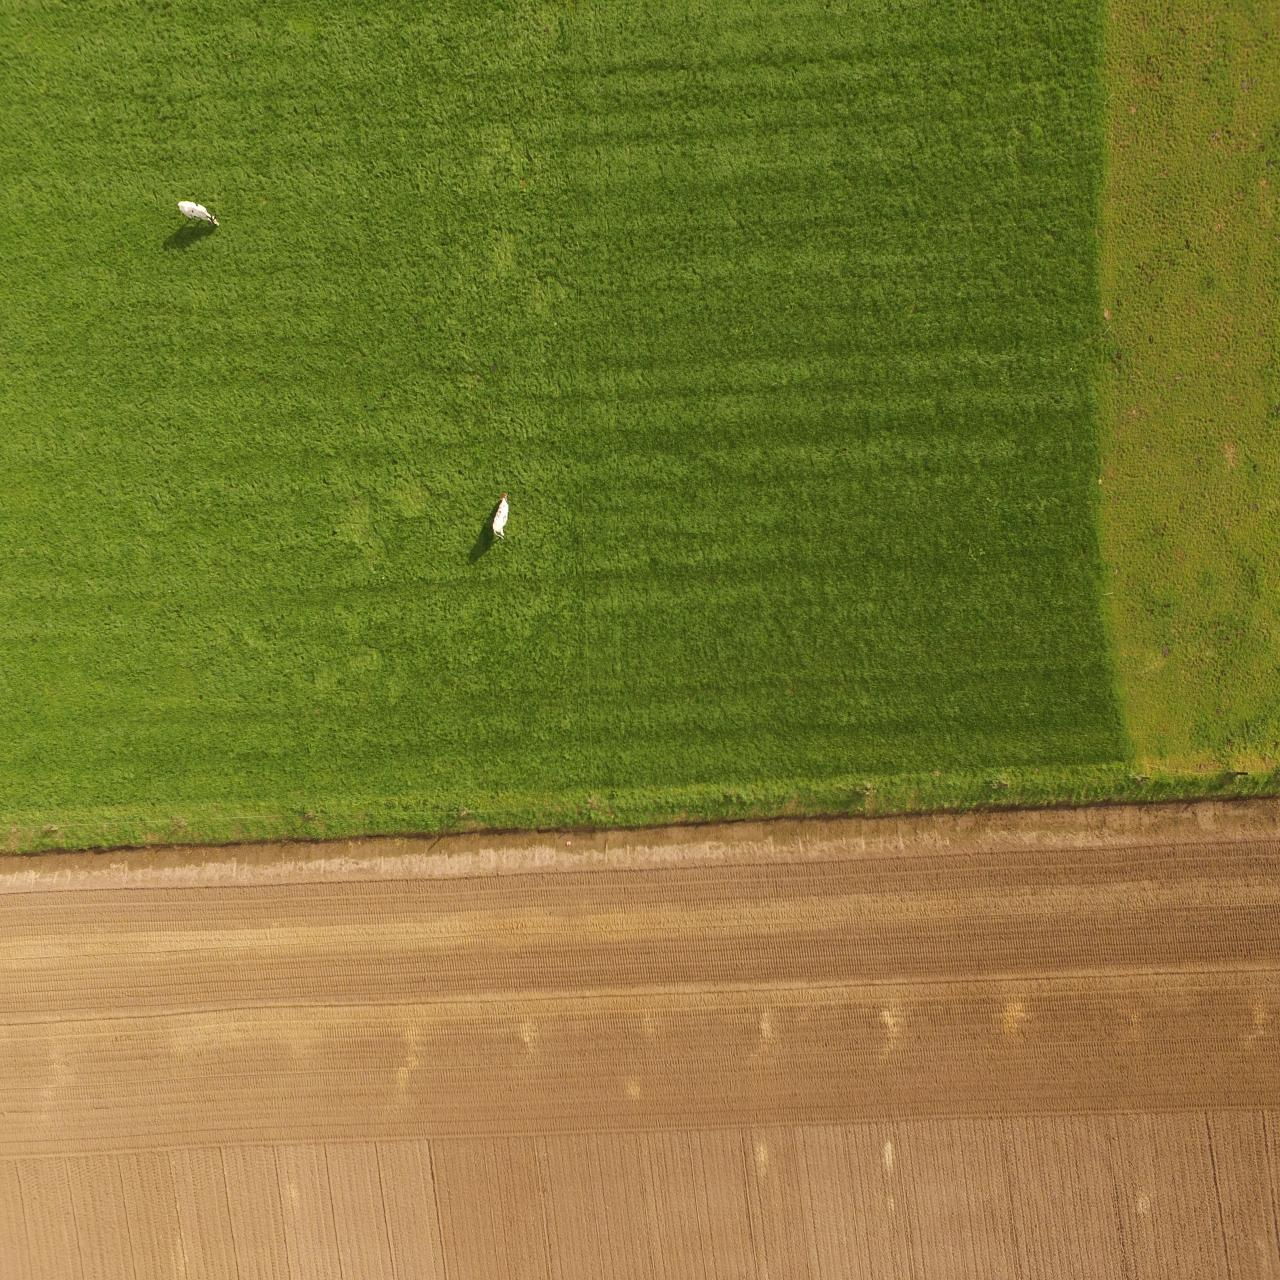cow: (173, 192, 223, 238), (486, 485, 512, 544)
